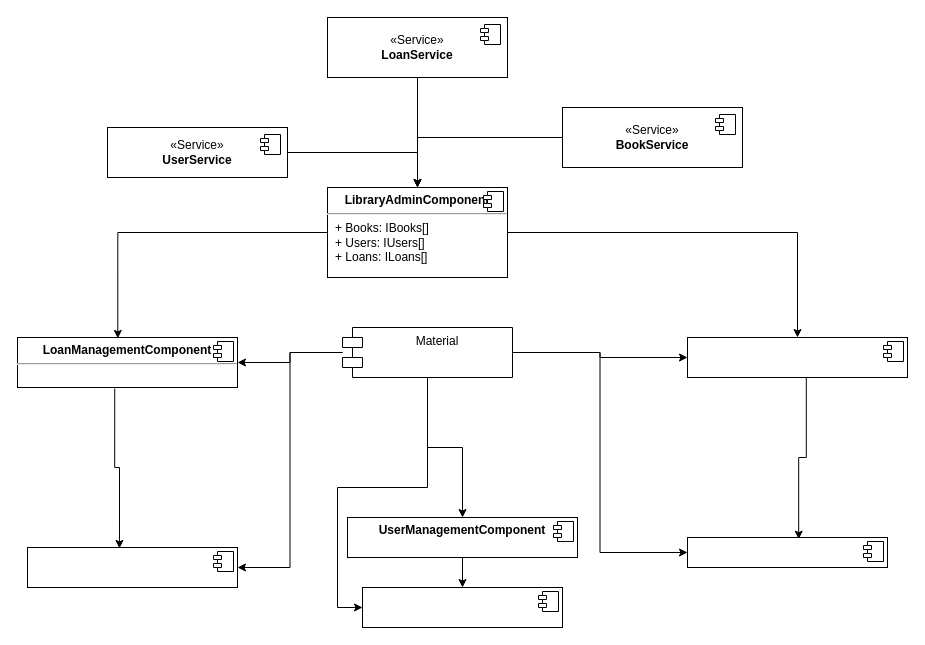
Some shapes in this 925 by 645 pixel diagram are drawn without their labels. Each missing label, with the centre of its shape:
"BookDetailsComponent" goes at (x=787, y=552).
"BookManagementComponent" goes at (x=797, y=357).
"LoanDetailsComponent" goes at (x=132, y=567).
"UserDetailsComponent" goes at (x=462, y=607).
